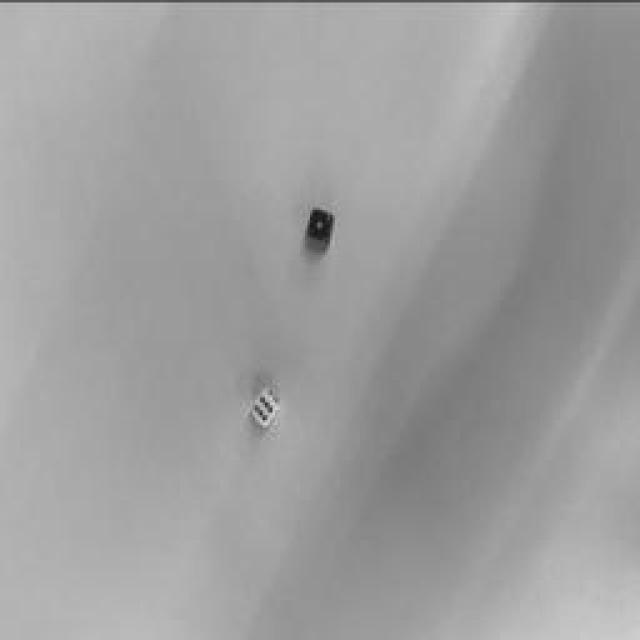dice_1: (308, 209, 332, 241)
dice_6: (252, 388, 276, 428)
